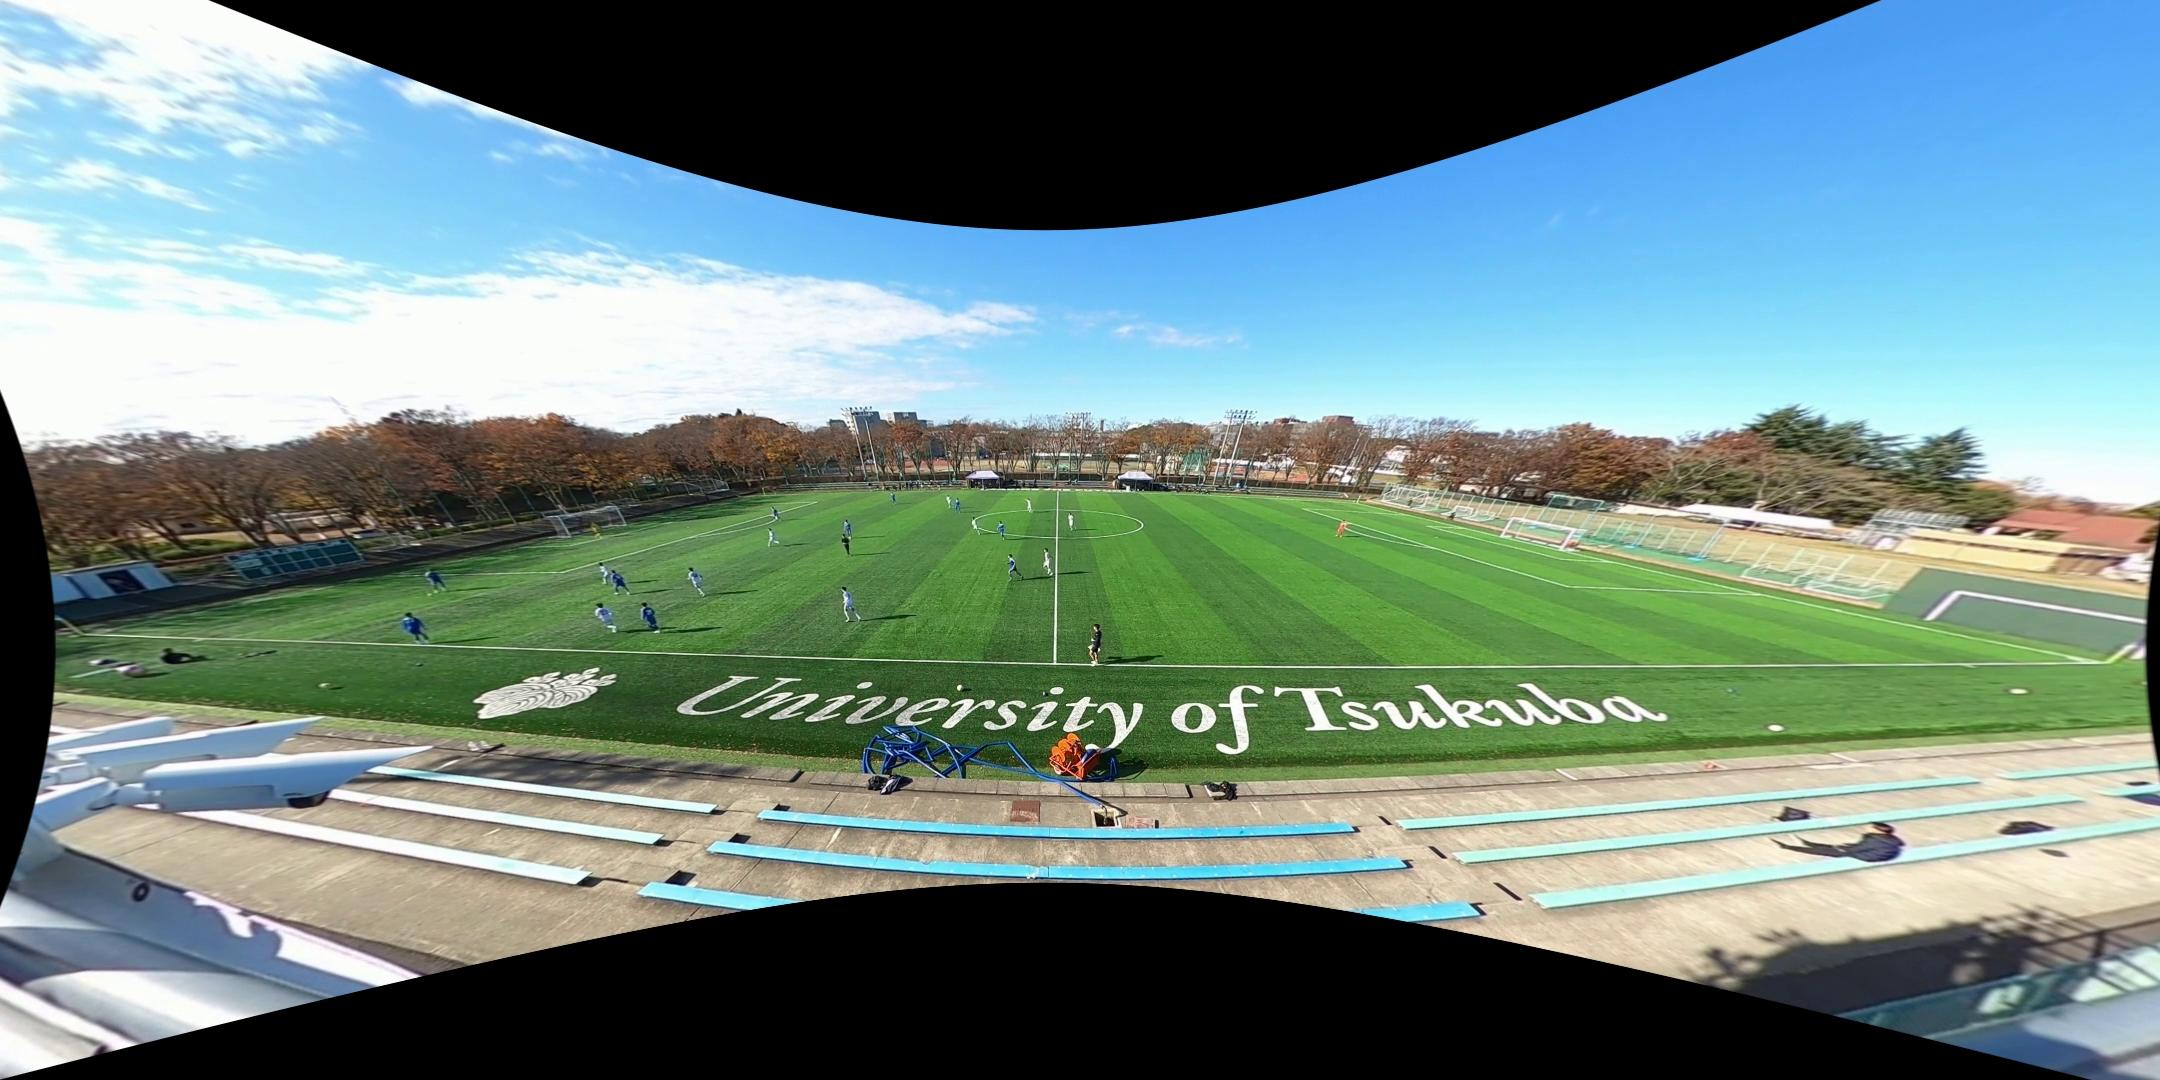person: (401, 611, 433, 645), (841, 587, 863, 622), (594, 602, 618, 632), (1087, 623, 1103, 666), (640, 602, 661, 633), (424, 568, 447, 593), (687, 567, 706, 597), (610, 570, 632, 595), (1006, 554, 1025, 582), (597, 561, 619, 585), (1042, 548, 1055, 576), (767, 528, 782, 548), (590, 521, 604, 540), (1335, 519, 1348, 538), (995, 521, 1007, 541), (841, 534, 851, 556), (843, 519, 853, 540), (1066, 512, 1077, 531), (971, 517, 981, 535), (771, 506, 782, 522), (1024, 498, 1034, 514), (953, 498, 962, 513), (890, 491, 897, 506), (946, 495, 953, 509)
sports ball: (1765, 719, 1788, 735), (2005, 685, 2031, 699), (315, 678, 335, 694), (954, 680, 968, 693), (425, 591, 434, 600)
